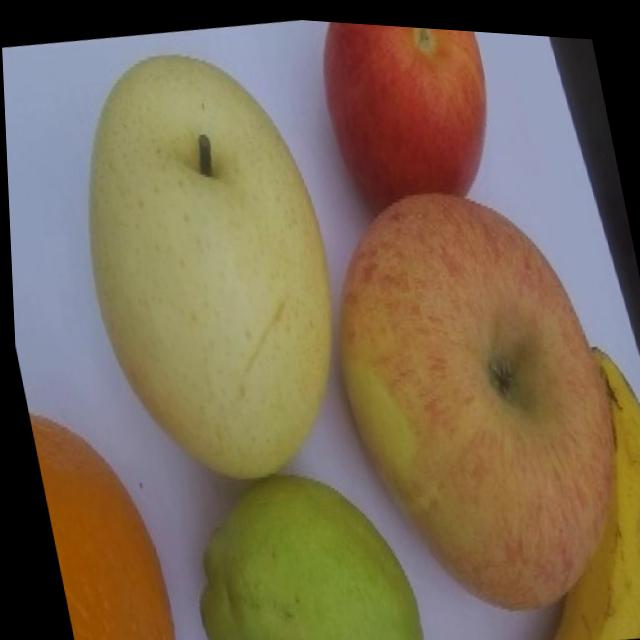Apple: (307, 163, 640, 634), (302, 16, 518, 223)
Banana: (476, 313, 640, 640)
Orange: (22, 386, 185, 640)
